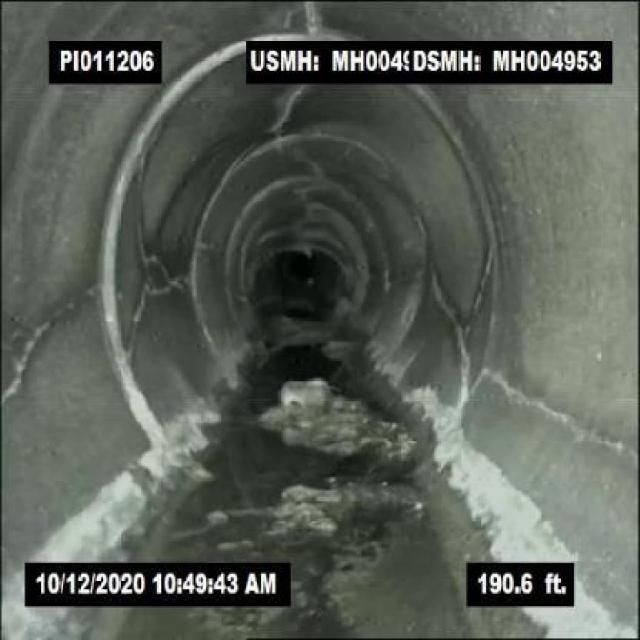Crack: (486, 358, 636, 456), (9, 286, 102, 399), (435, 274, 483, 363), (131, 175, 151, 368), (297, 3, 326, 35)
Debris: (277, 376, 334, 426)
